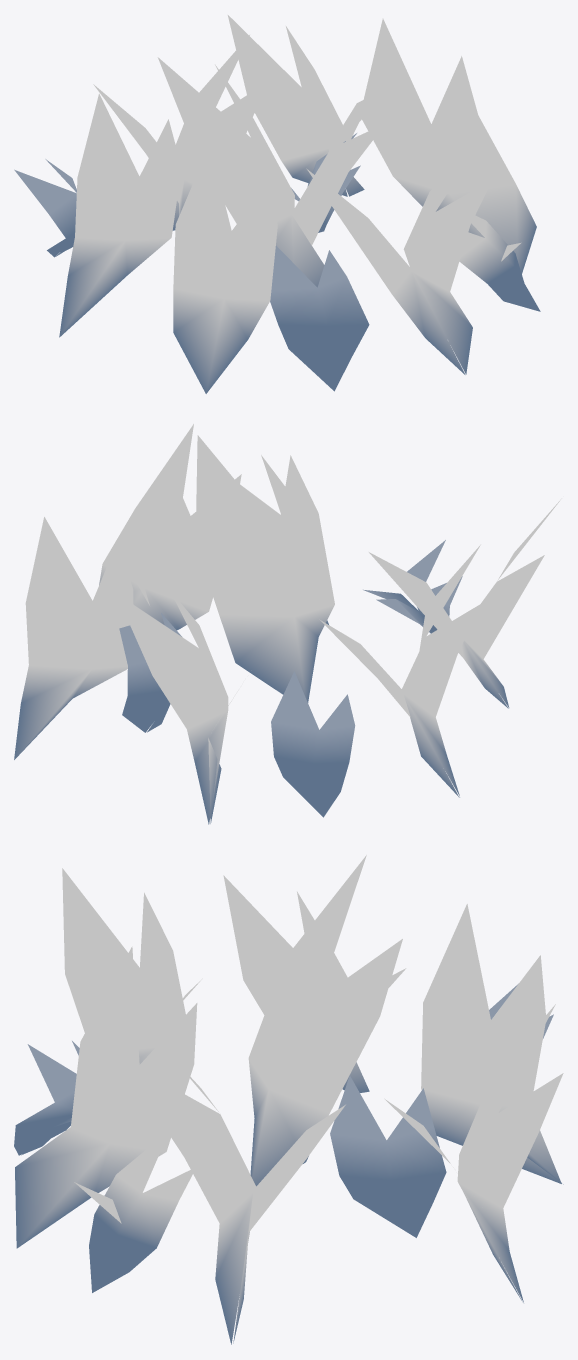
File: tall-grass-2.glb
3 views of the same model, one above another, from view 1: azimuth 30°, elevation 25°; view 2: azimuth 150°, elevation 25°; view 3: azimuth 270°, elevation 25° (orthographic). The views are drawn at different scales.
Visible parts, largest first — view 1: tall-grass-2; view 2: tall-grass-2; view 3: tall-grass-2.
Part boxes in pixels (<box>): tall-grass-2: <box>14,15,540,393</box>; tall-grass-2: <box>14,424,561,824</box>; tall-grass-2: <box>14,855,563,1344</box>.
Size of the model in its own units: 1.23 by 0.7128 by 1.14.
